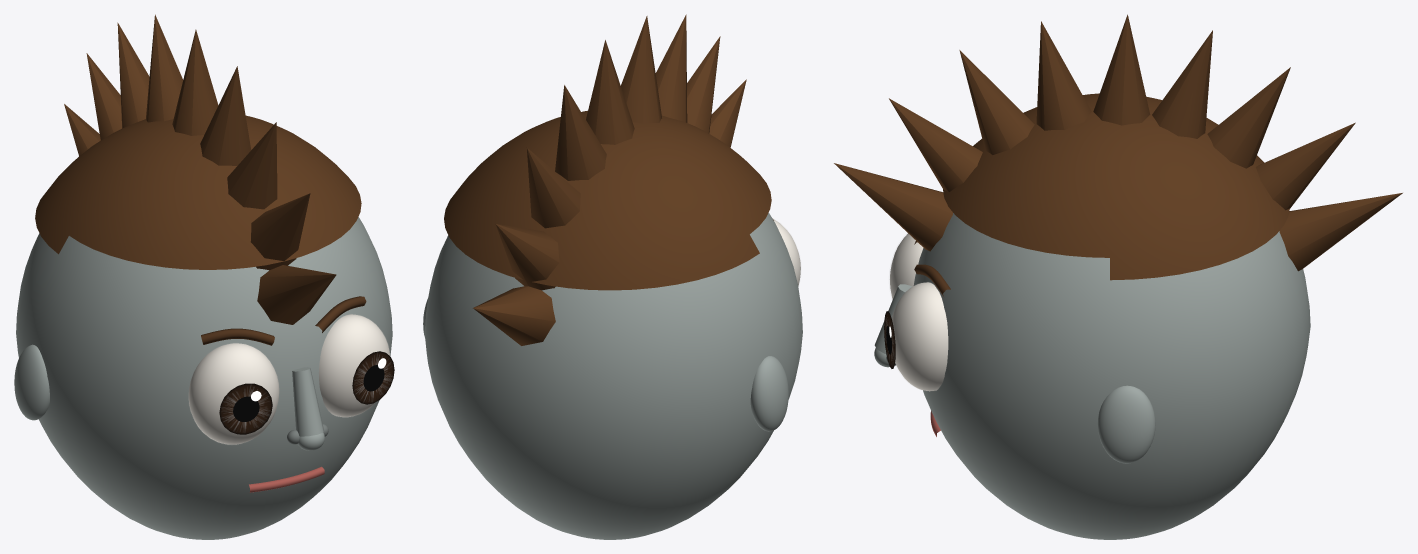
Rendered from autres-03-crete.glb.
The picture shows the model from 3 angles, left to right: view 1: azimuth 30°, elevation 25°; view 2: azimuth 150°, elevation 25°; view 3: azimuth 270°, elevation 25°; orthographic projection. The views are drawn at different scales.
Size of what is drawn, in the model's own units: 0.3087 by 0.4106 by 0.4137.
10 materials, 1 textured.
